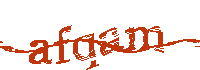a: (99, 26, 120, 57), (28, 40, 51, 66)
f: (52, 23, 73, 68)
m: (126, 26, 165, 55)
q: (74, 33, 100, 70)
